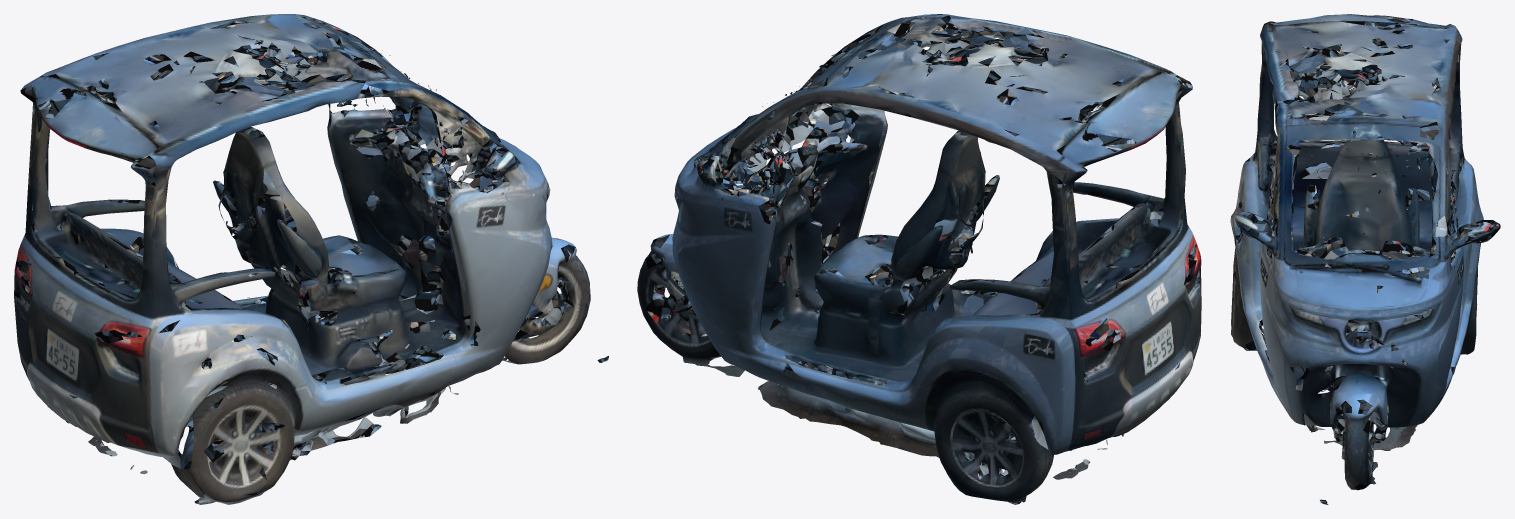
Rendered from tuktuk.glb.
3 renders of one model, left to right at view 1: azimuth 30°, elevation 25°; view 2: azimuth 150°, elevation 25°; view 3: azimuth 270°, elevation 25°, orthographic. The views are drawn at different scales.
Visible parts, largest first — view 1: Meshes; view 2: Meshes; view 3: Meshes.
Boxes of the visible parts, box(x1,y1,x2,y2) form: Meshes: box(14, 14, 608, 504); Meshes: box(637, 14, 1201, 504); Meshes: box(1230, 14, 1500, 504).
Bounding box in the file's own units: 283 × 193 × 150.
Materials: 1 (1 with a texture image).
